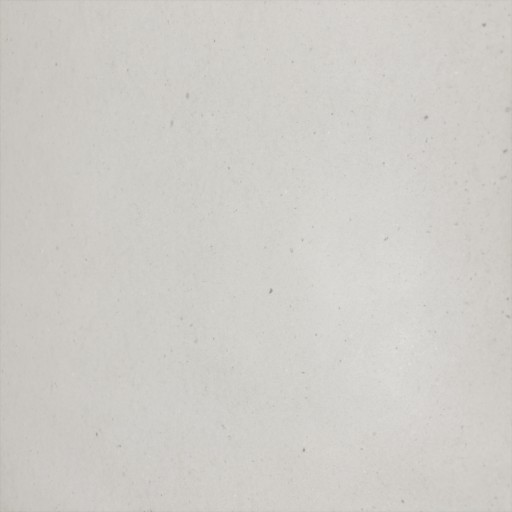lego: (228, 225, 284, 286)
